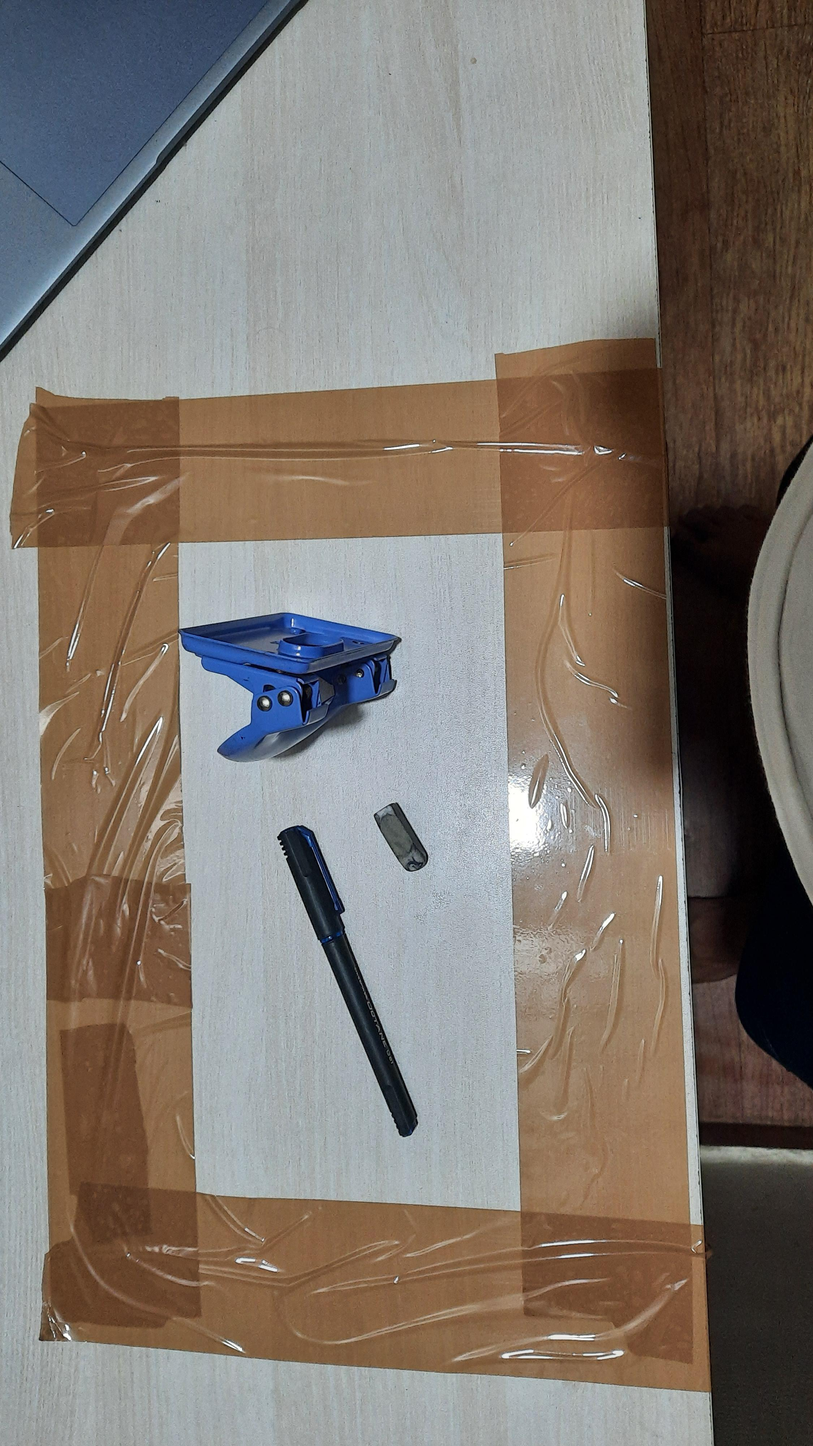Eraser: (373, 802, 429, 873)
Pen: (278, 825, 418, 1138)
Punch: (178, 611, 402, 762)
